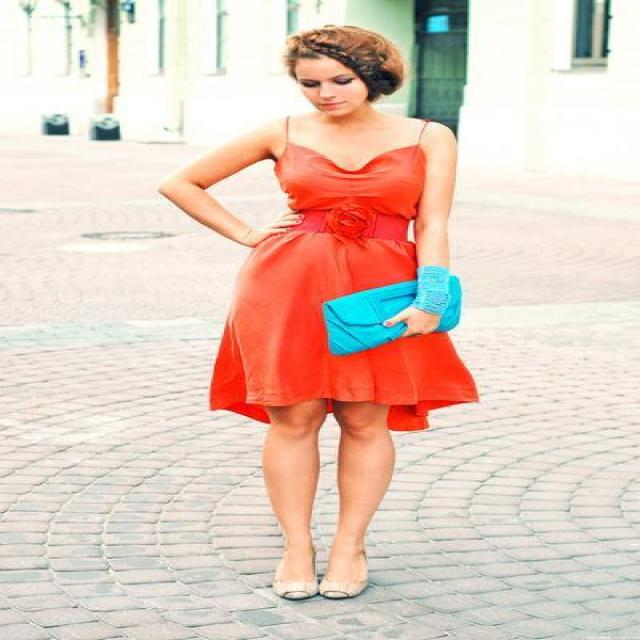bag: (323, 266, 461, 354)
dress: (209, 144, 476, 430)
shoe: (274, 564, 358, 596)
